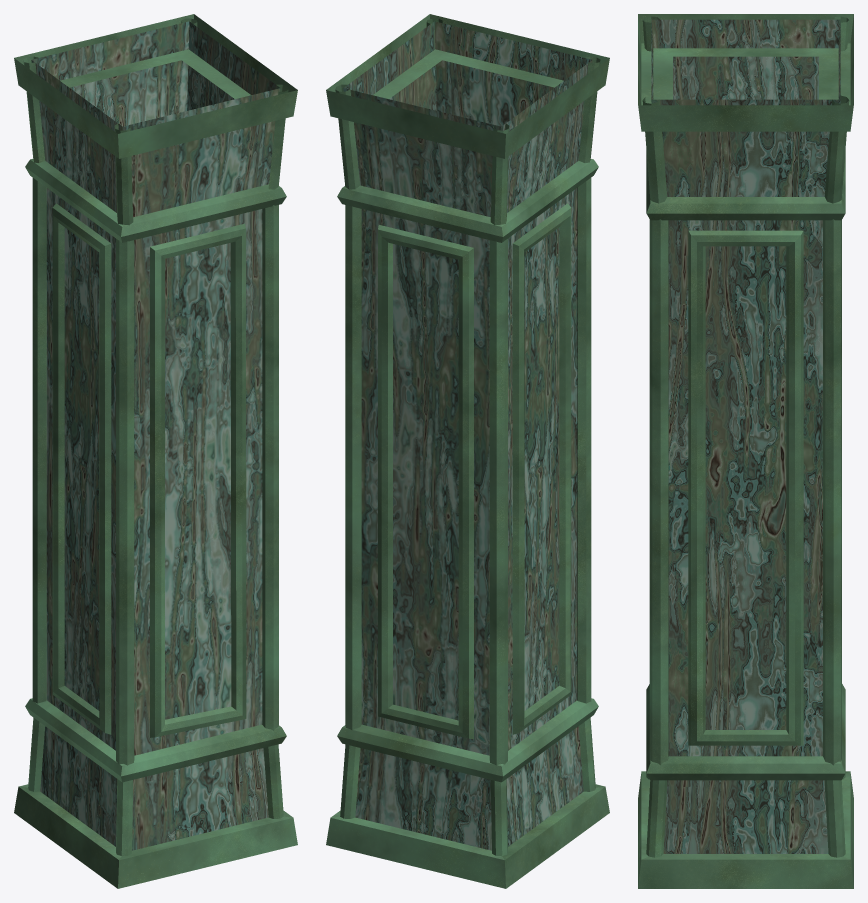
File: Pillar_UpperDeck.FBX
3 views of the same model, side by side, from view 1: azimuth 30°, elevation 25°; view 2: azimuth 150°, elevation 25°; view 3: azimuth 270°, elevation 25° (orthographic). The views are drawn at different scales.
Visible parts, largest first — view 1: Box001; view 2: Box001; view 3: Box001.
Boxes of the visible parts, box(x1,y1,x2,y2) form: Box001: box(14, 14, 297, 888); Box001: box(326, 14, 609, 888); Box001: box(638, 14, 853, 888).
Size of the model in its own units: 74.87 by 300 by 74.87.
